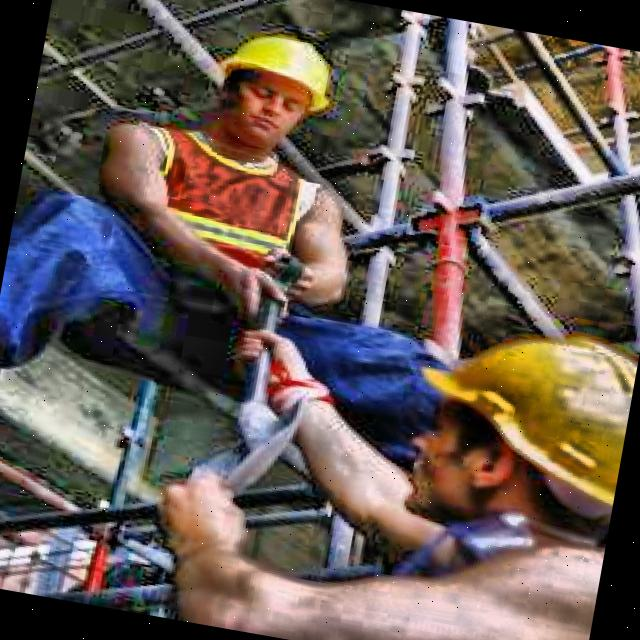helmet: (376, 303, 640, 581), (186, 8, 354, 170)
